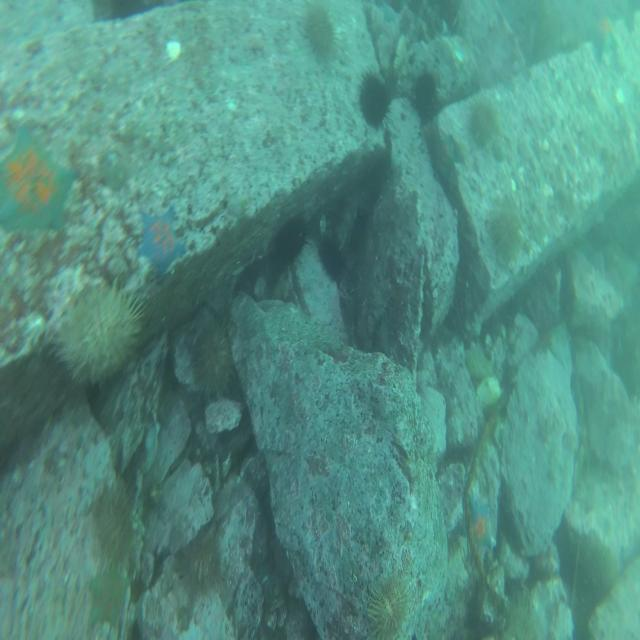echinus: (59, 279, 138, 376), (190, 323, 232, 397), (94, 484, 136, 557), (362, 574, 412, 634), (180, 534, 227, 589), (265, 219, 310, 270), (360, 64, 390, 125), (303, 5, 334, 55), (317, 234, 344, 284), (493, 209, 522, 253), (470, 108, 496, 148), (413, 70, 435, 113)
starfish: (2, 127, 73, 233), (140, 198, 183, 274), (88, 571, 136, 629), (464, 493, 496, 559), (587, 12, 622, 68)
